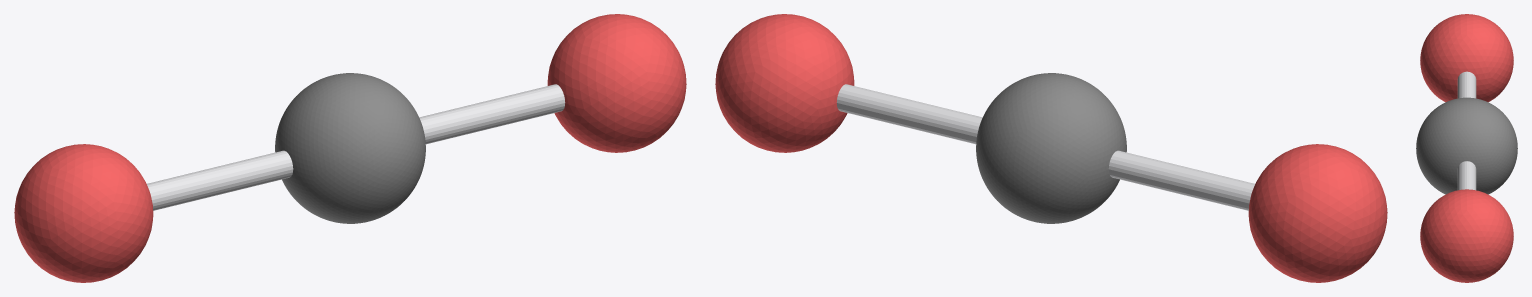
The picture shows the model from 3 angles, left to right: view 1: azimuth 30°, elevation 25°; view 2: azimuth 150°, elevation 25°; view 3: azimuth 270°, elevation 25°; orthographic projection. The views are drawn at different scales.
Parts seen in each view (by area): view 1: C_centre, O_1, O_0, bond_1, bond_0; view 2: C_centre, O_1, O_0, bond_1, bond_0; view 3: C_centre, O_0, O_1, bond_0, bond_1.
Part boxes in pixels (bbox=[...]): C_centre: bbox=[275, 73, 425, 223]; O_1: bbox=[14, 144, 153, 282]; O_0: bbox=[547, 14, 686, 152]; bond_1: bbox=[147, 150, 293, 210]; bond_0: bbox=[419, 84, 565, 144]; C_centre: bbox=[976, 73, 1126, 223]; O_1: bbox=[1248, 144, 1387, 282]; O_0: bbox=[715, 14, 854, 152]; bond_1: bbox=[1108, 150, 1254, 210]; bond_0: bbox=[836, 84, 982, 144]; C_centre: bbox=[1416, 97, 1517, 194]; O_0: bbox=[1420, 189, 1513, 282]; O_1: bbox=[1420, 14, 1513, 102]; bond_0: bbox=[1457, 161, 1476, 190]; bond_1: bbox=[1457, 71, 1476, 98].
Bounding box in the file's own units: 0.38 × 0.076 × 0.076.
